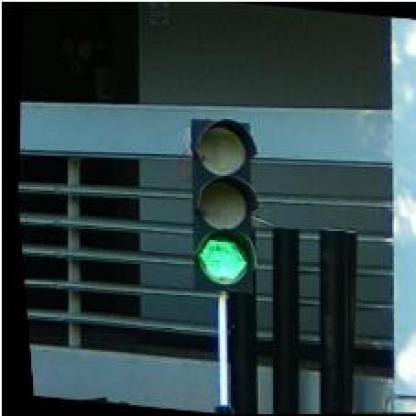green: (168, 113, 268, 294)
